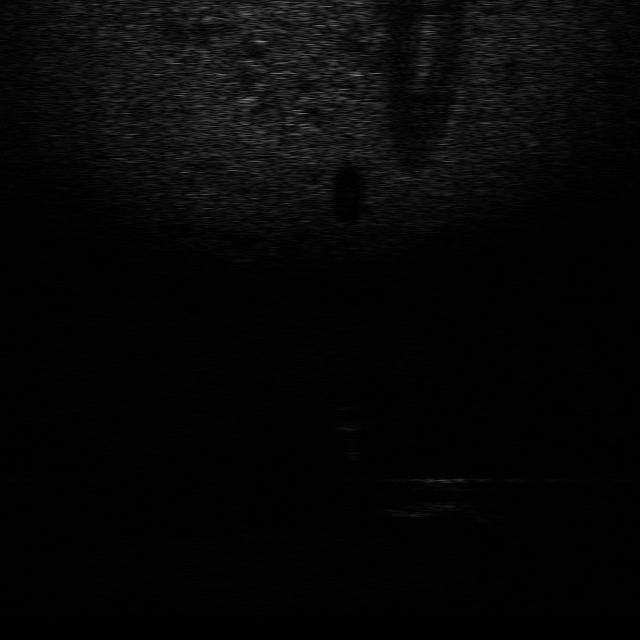ball: (328, 404, 370, 434)
tyre: (378, 471, 477, 522)
